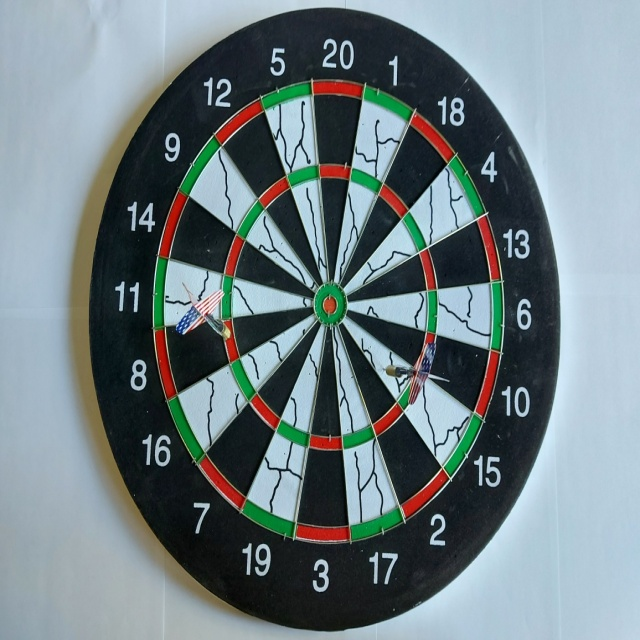Dart: (374, 338, 455, 406), (167, 277, 238, 346)
